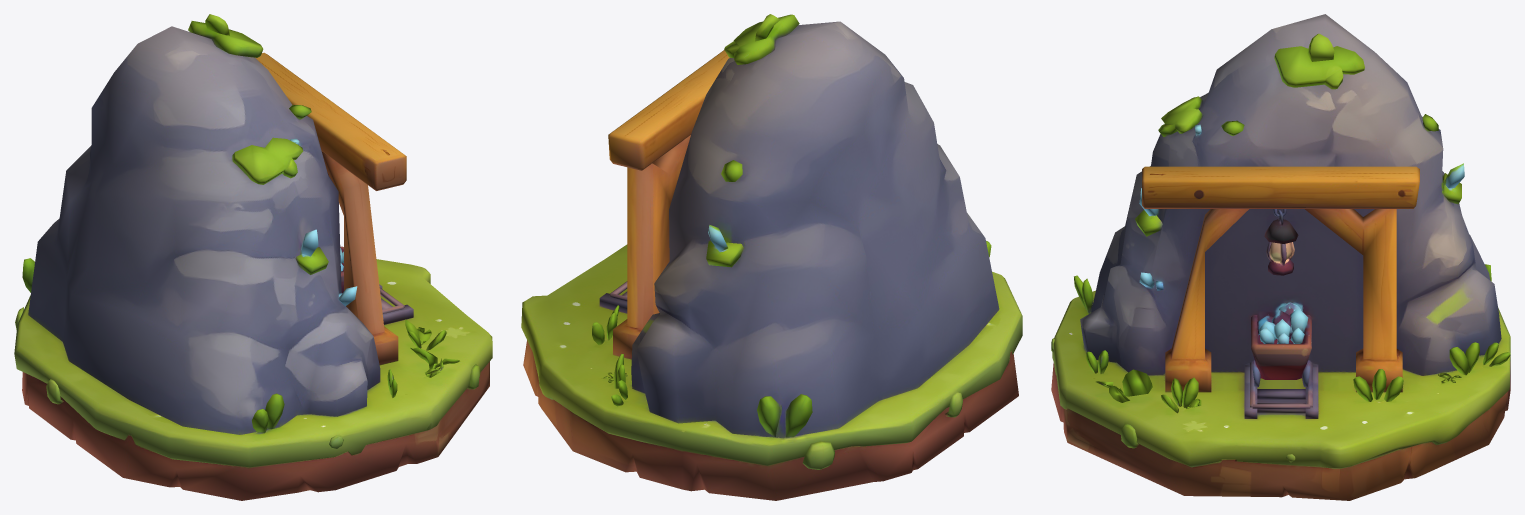
File: mina.glb
The picture shows the model from 3 angles, left to right: view 1: azimuth 30°, elevation 25°; view 2: azimuth 150°, elevation 25°; view 3: azimuth 270°, elevation 25°; orthographic projection. The views are drawn at different scales.
Parts seen in each view (by area): view 1: tripo_node_8b034cd1-d760-40fa-9c68-50ed7ea8e488; view 2: tripo_node_8b034cd1-d760-40fa-9c68-50ed7ea8e488; view 3: tripo_node_8b034cd1-d760-40fa-9c68-50ed7ea8e488.
Boxes of the visible parts, x1,y1,x2,y2 form: tripo_node_8b034cd1-d760-40fa-9c68-50ed7ea8e488: [14, 14, 492, 500]; tripo_node_8b034cd1-d760-40fa-9c68-50ed7ea8e488: [521, 14, 1022, 500]; tripo_node_8b034cd1-d760-40fa-9c68-50ed7ea8e488: [1051, 14, 1510, 500].
Bounding box in the file's own units: 0.9668 × 0.8691 × 0.998.
Materials: 1 (1 with a texture image).
